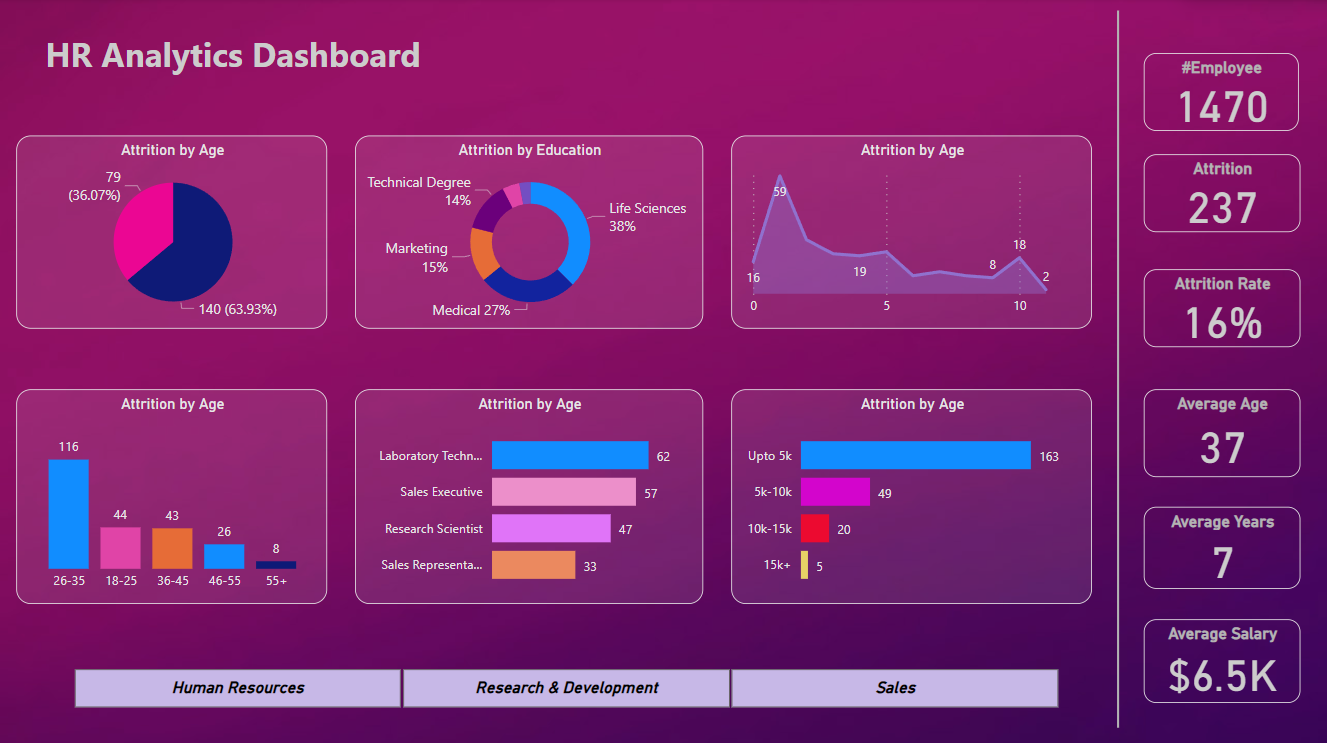

What the dashboard file says about the page in this screenshot:
{"tool":"powerbi","page":{"name":"Page 1","canvas":[1280,720],"ordinal":0},"visuals":[{"type":"card","title":"#Employee","fields":{"Values":["CountNonNull(HR_Analytics.EmpID)"]},"box":[1103.7,53.5,149.4,75.4],"z":0},{"type":"card","title":"Attrition","fields":{"Values":["Sum(HR_Analytics.AttritionCount)"]},"box":[1103.7,150.8,150.8,75.4],"z":1000},{"type":"card","title":"Attrition Rate","fields":{"Values":["HR_Analytics.AttritionRate"]},"box":[1103.7,261.9,150.8,75.4],"z":2000},{"type":"card","title":"Average Age","fields":{"Values":["HR_Analytics.average age"]},"box":[1103.7,377,150.8,85],"z":3000},{"type":"card","title":"Average Years","fields":{"Values":["HR_Analytics.average Years"]},"box":[1103.7,490.8,150.8,79.5],"z":4000},{"type":"card","title":"Average Salary","fields":{"Values":["Avg(HR_Analytics.MonthlyIncome)"]},"box":[1103.7,599.1,150.8,80.9],"z":5000},{"type":"donutChart","title":"Attrition by Education","fields":{"Category":["HR_Analytics.EducationField"],"Y":["Sum(HR_Analytics.AttritionCount)"]},"box":[342.8,133,335.9,186.5],"z":6000},{"type":"columnChart","title":"Attrition by Age","fields":{"Category":["HR_Analytics.AgeGroup"],"Y":["Sum(HR_Analytics.AttritionCount)"]},"box":[15.1,377,300.3,207],"z":7000},{"type":"barChart","title":"Attrition by Age","fields":{"Category":["HR_Analytics.SalarySlab"],"Y":["Sum(HR_Analytics.AttritionCount)"]},"box":[706.1,377,348.2,207],"z":8000},{"type":"barChart","title":"Attrition by Age","fields":{"Category":["HR_Analytics.JobRole"],"Y":["Sum(HR_Analytics.AttritionCount)"]},"box":[342.8,377,335.9,207],"z":9000},{"type":"areaChart","title":"Attrition by Age","fields":{"Category":["HR_Analytics.YearsAtCompany"],"Y":["Sum(HR_Analytics.AttritionCount)"]},"box":[706.1,133,348.2,186.5],"z":10000},{"type":"pieChart","title":"Attrition by Age","fields":{"Category":["HR_Analytics.Gender"],"Y":["Sum(HR_Analytics.AttritionCount)"]},"box":[15.1,133,300.3,186.5],"z":11000},{"type":"shape","box":[1054.3,12.3,49.4,692.4],"z":12000},{"type":"slicer","fields":{"Values":["HR_Analytics.Department"]},"box":[45.2,640.3,999.5,50.7],"z":13000},{"type":"textbox","box":[15.1,27.4,418.2,64.4],"z":13001}]}

Visuals, with their boxes in screenshot pixels (x1, y1, x2, y2), scaled from the page's 1280x720 canvas onto the 1327x743 screenshot:
"#Employee" card: bbox(1144, 55, 1299, 133)
"Attrition" card: bbox(1144, 156, 1301, 233)
"Attrition Rate" card: bbox(1144, 270, 1301, 348)
"Average Age" card: bbox(1144, 389, 1301, 477)
"Average Years" card: bbox(1144, 506, 1301, 589)
"Average Salary" card: bbox(1144, 618, 1301, 702)
"Attrition by Education" donutChart: bbox(355, 137, 704, 330)
"Attrition by Age" columnChart: bbox(16, 389, 327, 603)
"Attrition by Age" barChart: bbox(732, 389, 1093, 603)
"Attrition by Age" barChart: bbox(355, 389, 704, 603)
"Attrition by Age" areaChart: bbox(732, 137, 1093, 330)
"Attrition by Age" pieChart: bbox(16, 137, 327, 330)
shape: bbox(1093, 13, 1144, 727)
slicer - HR_Analytics.Department: bbox(47, 661, 1083, 713)
textbox: bbox(16, 28, 449, 95)
